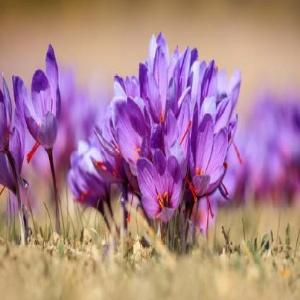Saffron: (12, 48, 70, 158), (72, 135, 137, 225), (135, 152, 184, 220), (190, 126, 229, 204)
